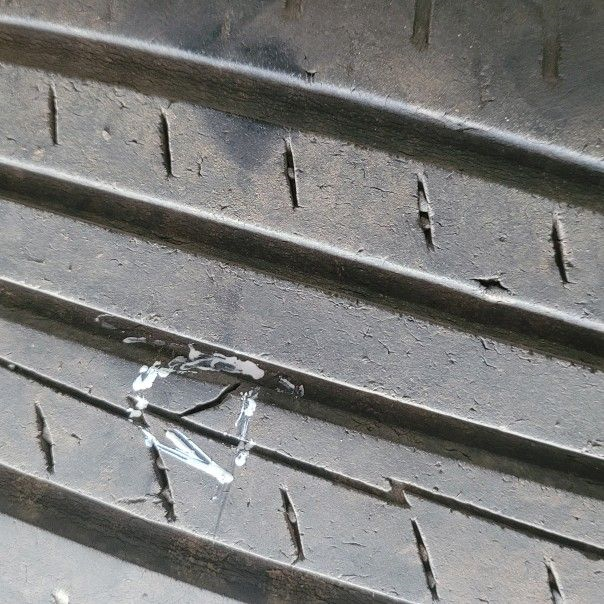tr: (169, 377, 247, 422)
